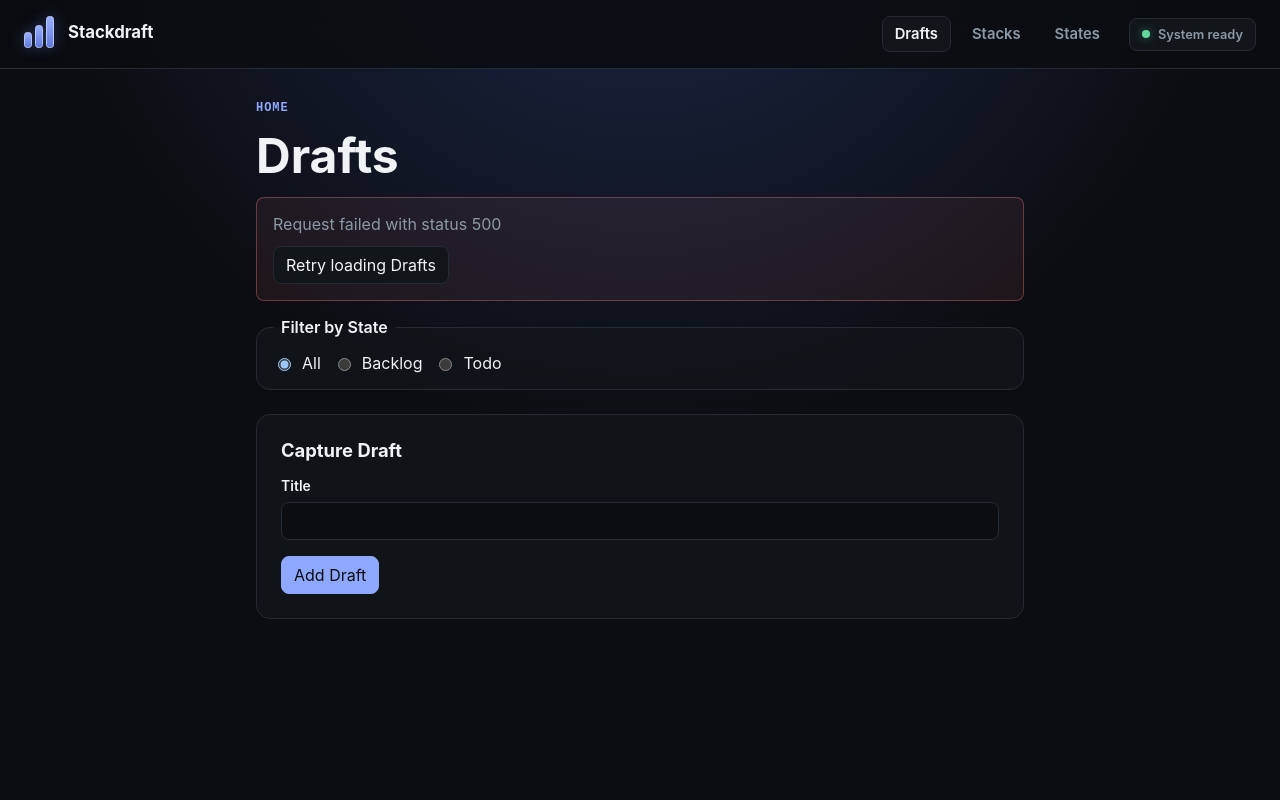
draft list screen › keeps the draft list error visible after creating during a list failure
The width and height of the screenshot is (1280, 800).
In the field labelled "Title": x=640, y=521 [281, 502, 999, 540], type "Captured during list failure"
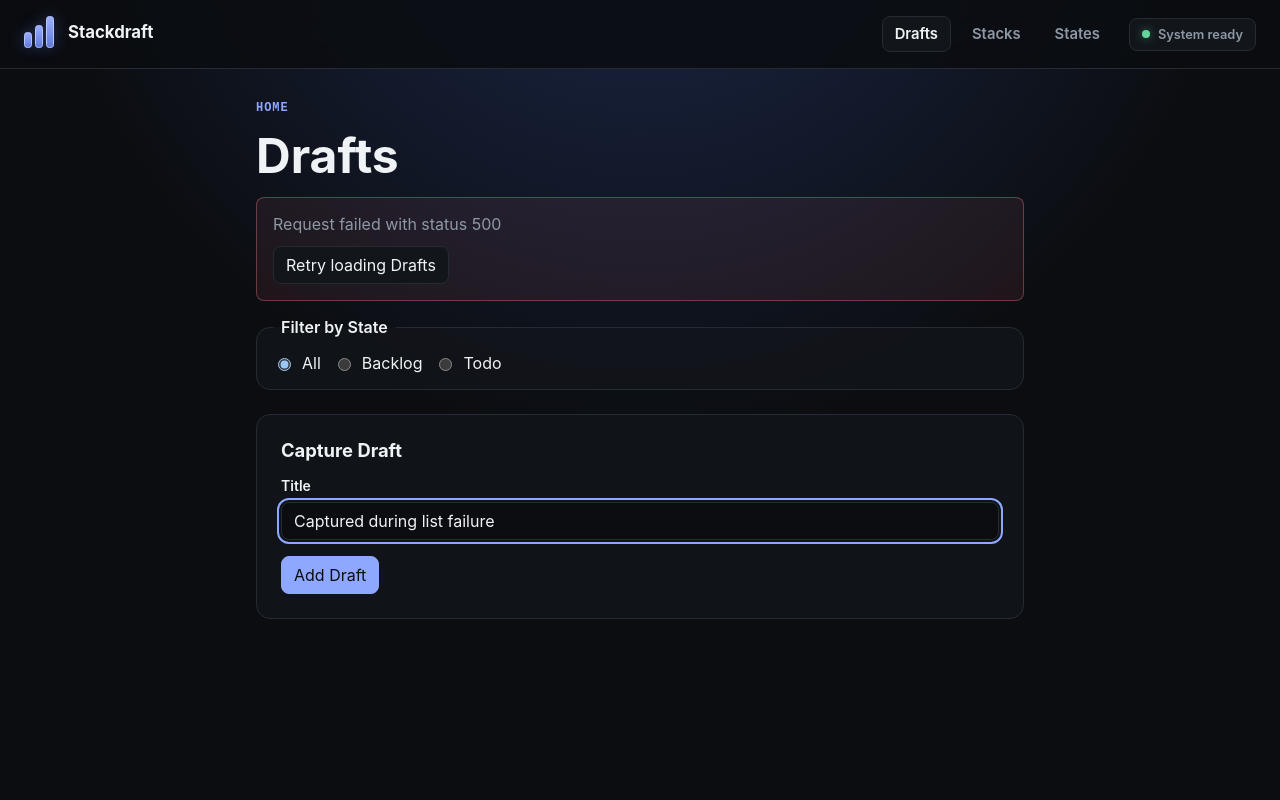
Click the button "Add Draft": x=330, y=575 [281, 556, 379, 594]
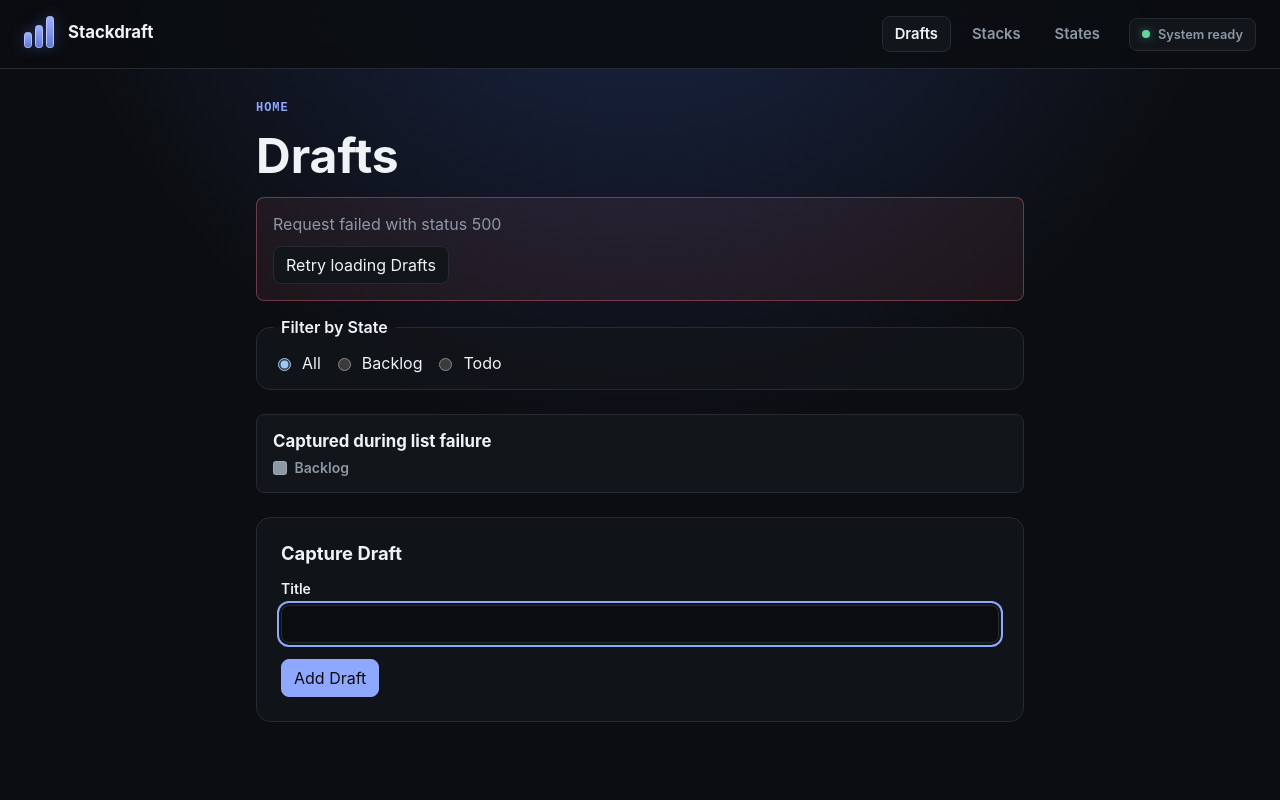
Expected: the message "Request failed with status 500 Retry loading Drafts" is shown, [256, 197, 1024, 301]
Now the link "Captured during list failure Backlog" is shown, box [273, 431, 492, 476]
